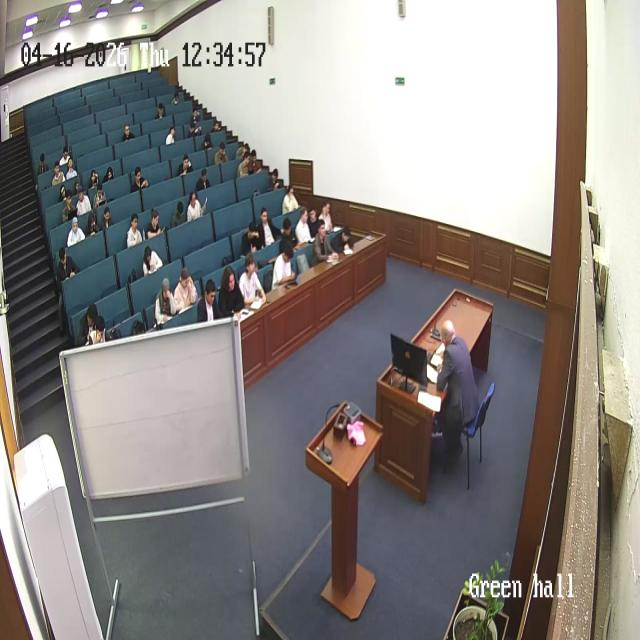person: (430, 319, 480, 458), (238, 253, 267, 310), (218, 265, 246, 318), (271, 239, 299, 289), (173, 268, 198, 316), (153, 278, 177, 326), (77, 303, 103, 347), (312, 218, 334, 266), (197, 280, 220, 324), (257, 207, 279, 249), (56, 245, 78, 287), (277, 216, 298, 257), (240, 219, 262, 257), (294, 207, 313, 247), (333, 224, 355, 257), (142, 241, 163, 275), (186, 189, 206, 224), (125, 212, 144, 248), (144, 208, 164, 241), (66, 215, 86, 247), (59, 188, 77, 222), (73, 184, 91, 217), (281, 184, 299, 216), (317, 200, 333, 234), (130, 165, 148, 193), (171, 199, 187, 229), (51, 159, 67, 188), (267, 168, 284, 194), (114, 122, 136, 142), (236, 149, 251, 177), (99, 205, 114, 232), (250, 145, 264, 172), (176, 154, 192, 177), (195, 168, 211, 191), (36, 147, 50, 171), (215, 143, 229, 165), (90, 186, 108, 203), (67, 156, 77, 184), (172, 89, 184, 110), (162, 127, 175, 146), (61, 148, 74, 167), (201, 132, 214, 150), (189, 106, 203, 122), (102, 165, 115, 180), (157, 98, 166, 119), (208, 114, 222, 127), (187, 121, 198, 136), (90, 168, 99, 180)
